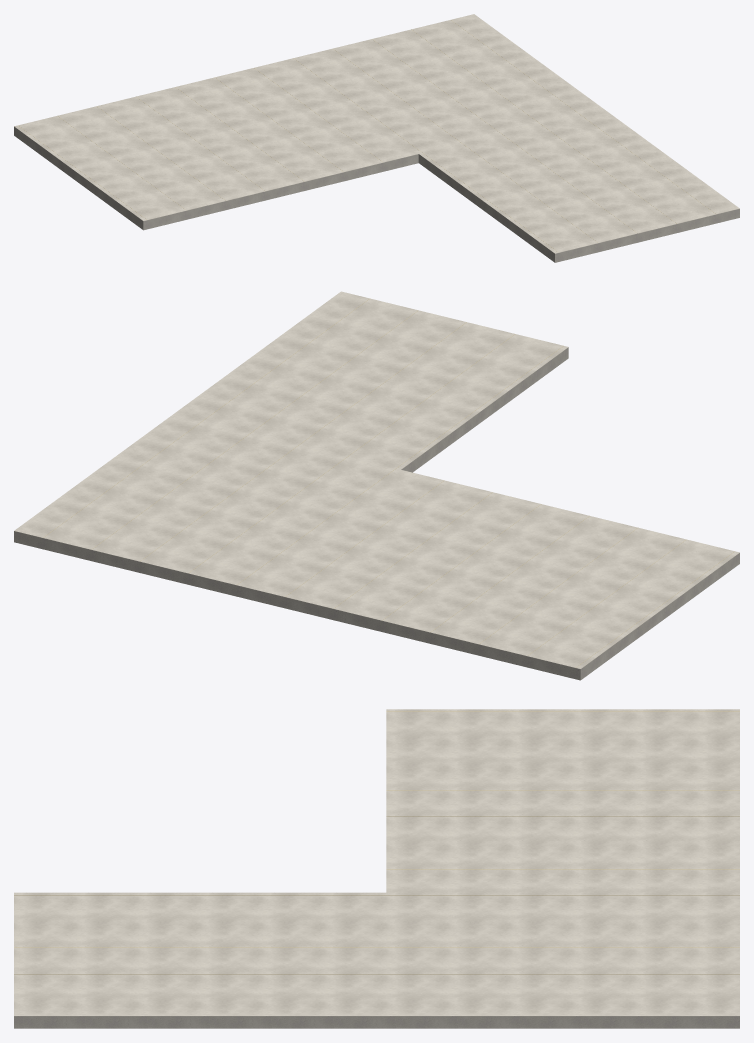
Rendered from slab_g.glb.
The picture shows the model from 3 angles, top to bottom: view 1: azimuth 30°, elevation 25°; view 2: azimuth 150°, elevation 25°; view 3: azimuth 270°, elevation 25°; orthographic projection. The views are drawn at different scales.
Visible parts, largest first — view 1: slab_g_terrazzo, slab_g_concrete, slab_g_brass; view 2: slab_g_terrazzo, slab_g_concrete, slab_g_brass; view 3: slab_g_terrazzo, slab_g_concrete, slab_g_brass.
Part boxes in pixels (box(x1,y1,x2,y2)): slab_g_terrazzo: box(14, 14, 739, 253); slab_g_concrete: box(14, 127, 739, 262); slab_g_brass: box(18, 20, 715, 251); slab_g_terrazzo: box(14, 291, 739, 669); slab_g_concrete: box(14, 347, 739, 680); slab_g_brass: box(43, 299, 734, 667); slab_g_terrazzo: box(14, 709, 739, 1016); slab_g_concrete: box(14, 1016, 739, 1028); slab_g_brass: box(14, 711, 739, 974).
Size of the model in its own units: 23.4 by 0.452 by 23.4.
Materials: 3 (2 with a texture image).
